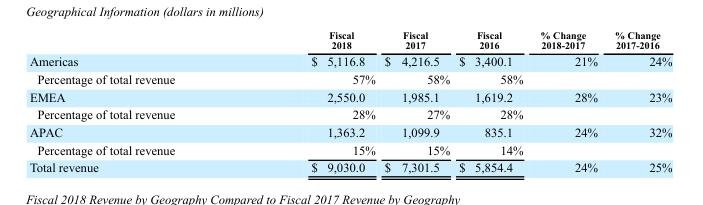table: (28, 29, 671, 174)
table column: (28, 29, 242, 174), (242, 29, 379, 174), (453, 29, 531, 174), (379, 29, 453, 174), (531, 29, 605, 174), (605, 29, 671, 174)
table column header: (28, 29, 671, 52)
table row: (28, 29, 671, 52), (28, 69, 671, 87), (28, 87, 671, 105), (28, 122, 671, 140), (28, 140, 671, 158), (28, 52, 671, 69), (28, 105, 671, 122), (28, 158, 671, 174)
